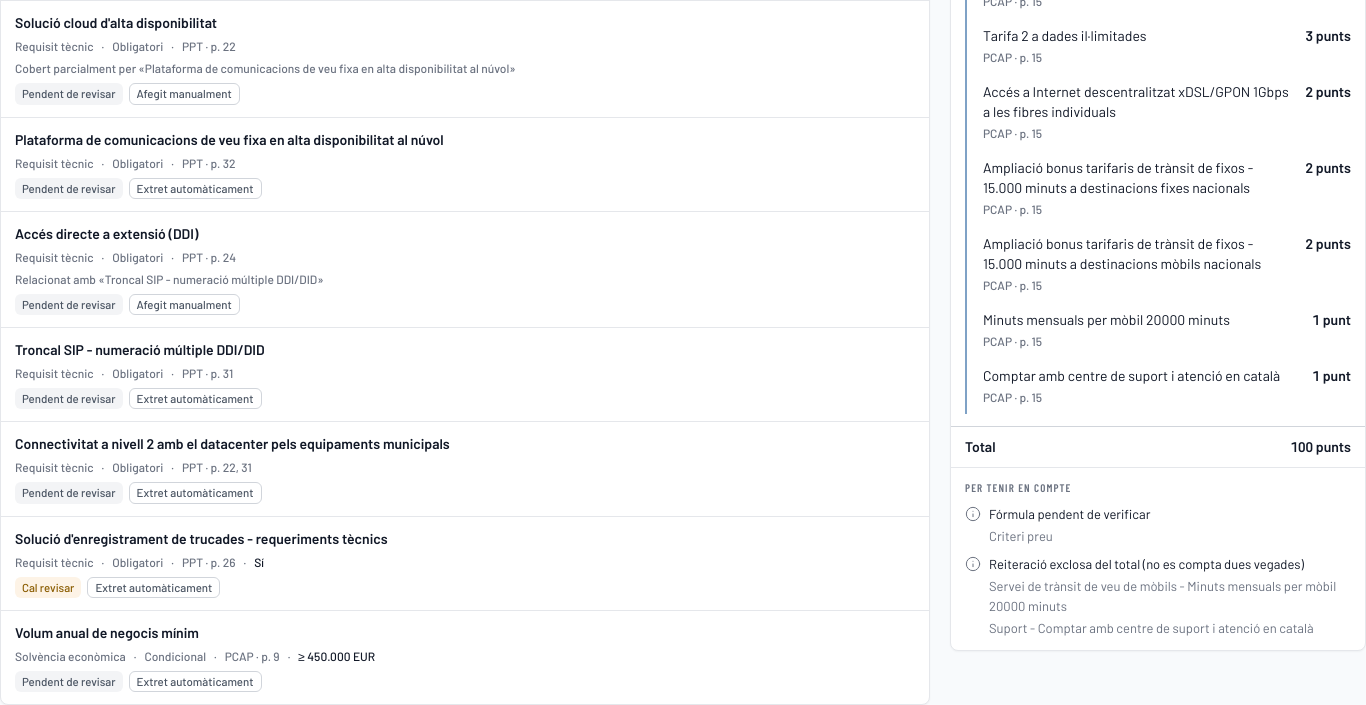
Test: Accions de revisió d'un requisit › Confirmar envia la revisió visible i mostra el que torna el servidor
(page scrolled)
Click the button "Volum anual de negocis mínim".
click(107, 632)  # box [1,611,929,704]
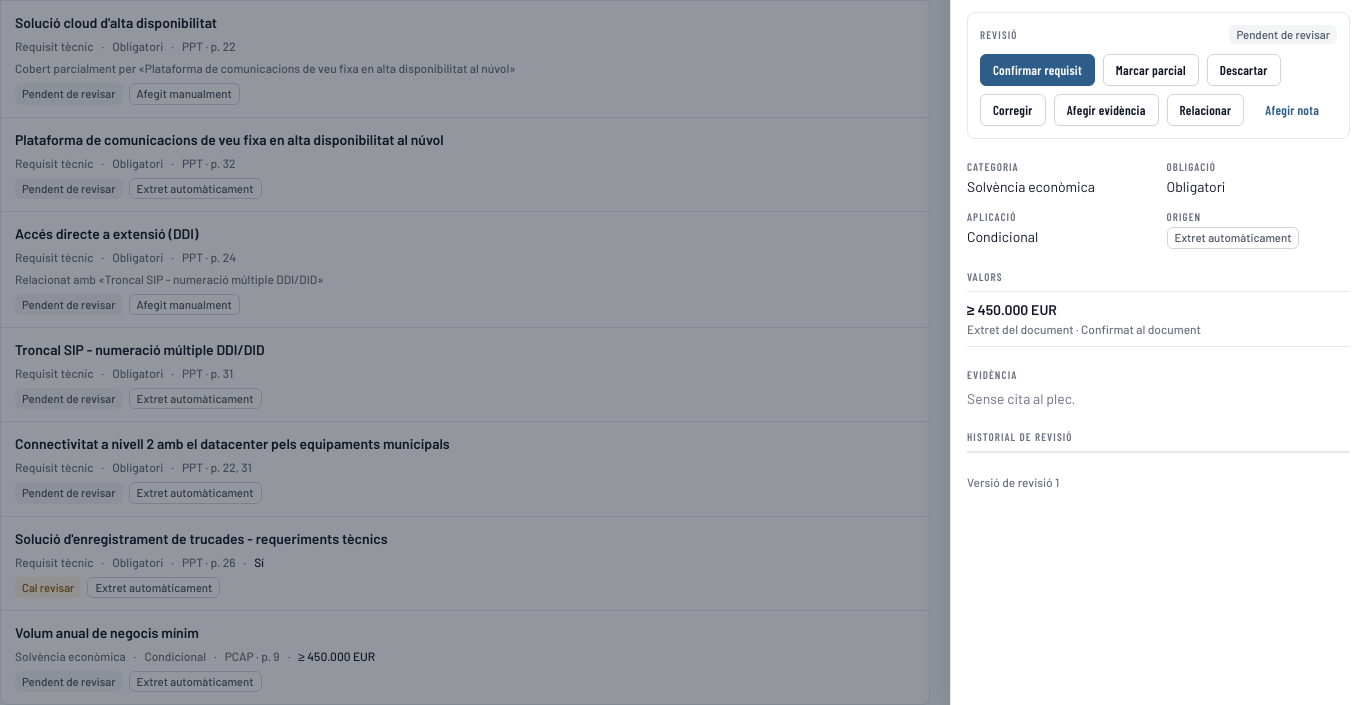
Expected: the text "Versió de revisió 1" is shown, [967,474,1059,488]
Click the button "Confirmar requisit".
click(1037, 70)  # box [980,54,1095,86]
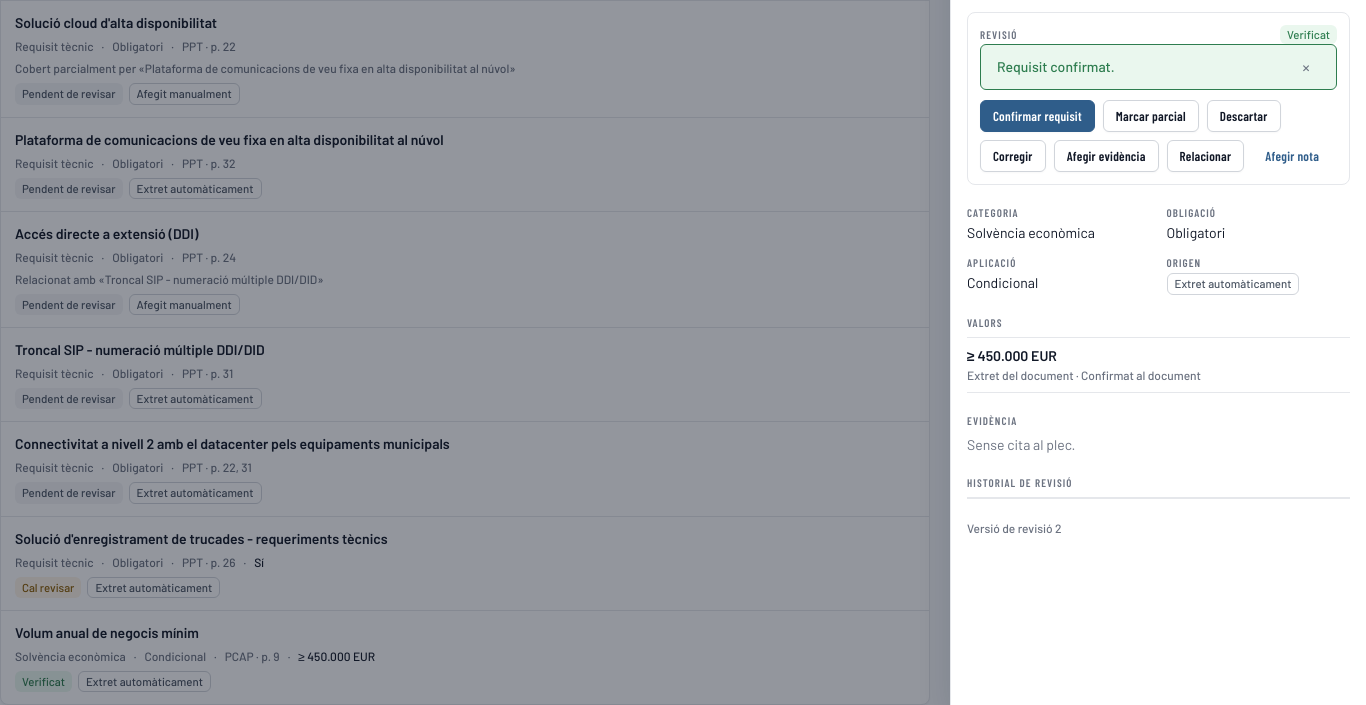
Expected: the text "Requisit confirmat." is shown, [997,57,1115,77]
Expected: the text "Versió de revisió 2" is shown, [967,520,1062,534]
Expected: the text "Verificat" is shown, [15,671,72,692]
